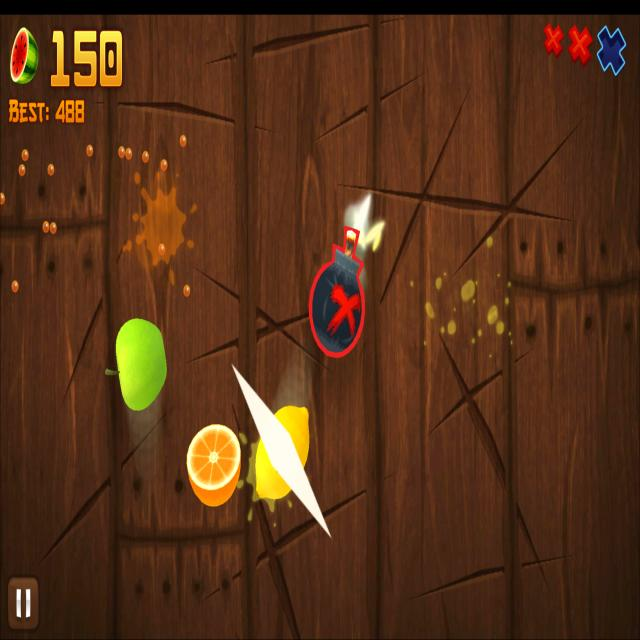bomb: (310, 224, 365, 358)
fruit: (117, 319, 167, 410)
